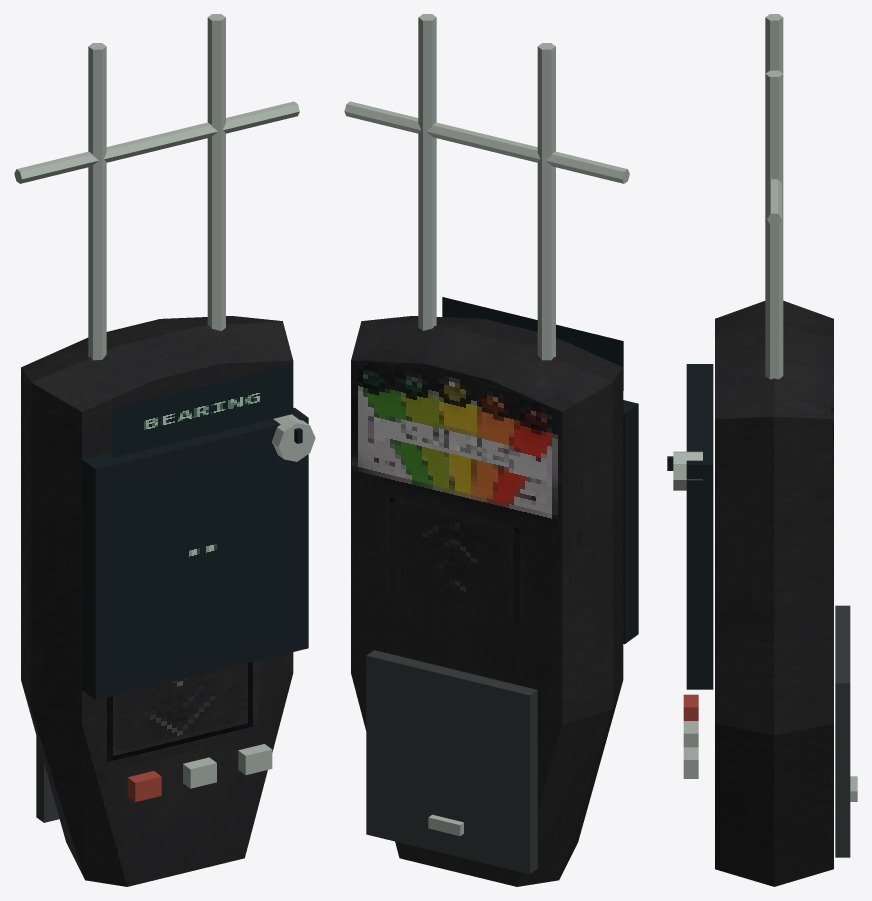
Rendered from blender_anchor_triangulator_2.glb.
3 views of the same model, side by side, from view 1: azimuth 30°, elevation 25°; view 2: azimuth 150°, elevation 25°; view 3: azimuth 270°, elevation 25° (orthographic). The views are drawn at different scales.
Visible parts, largest first — view 1: blender_anchor_triangulator_2; view 2: blender_anchor_triangulator_2; view 3: blender_anchor_triangulator_2.
Boxes of the visible parts, x1=… form: blender_anchor_triangulator_2: x1=14, y1=14, x2=315, y2=886; blender_anchor_triangulator_2: x1=344, y1=14, x2=638, y2=886; blender_anchor_triangulator_2: x1=667, y1=14, x2=857, y2=886.
Bounding box in the file's own units: 0.105 × 0.3 × 0.064.
Materials: 1 (1 with a texture image).
